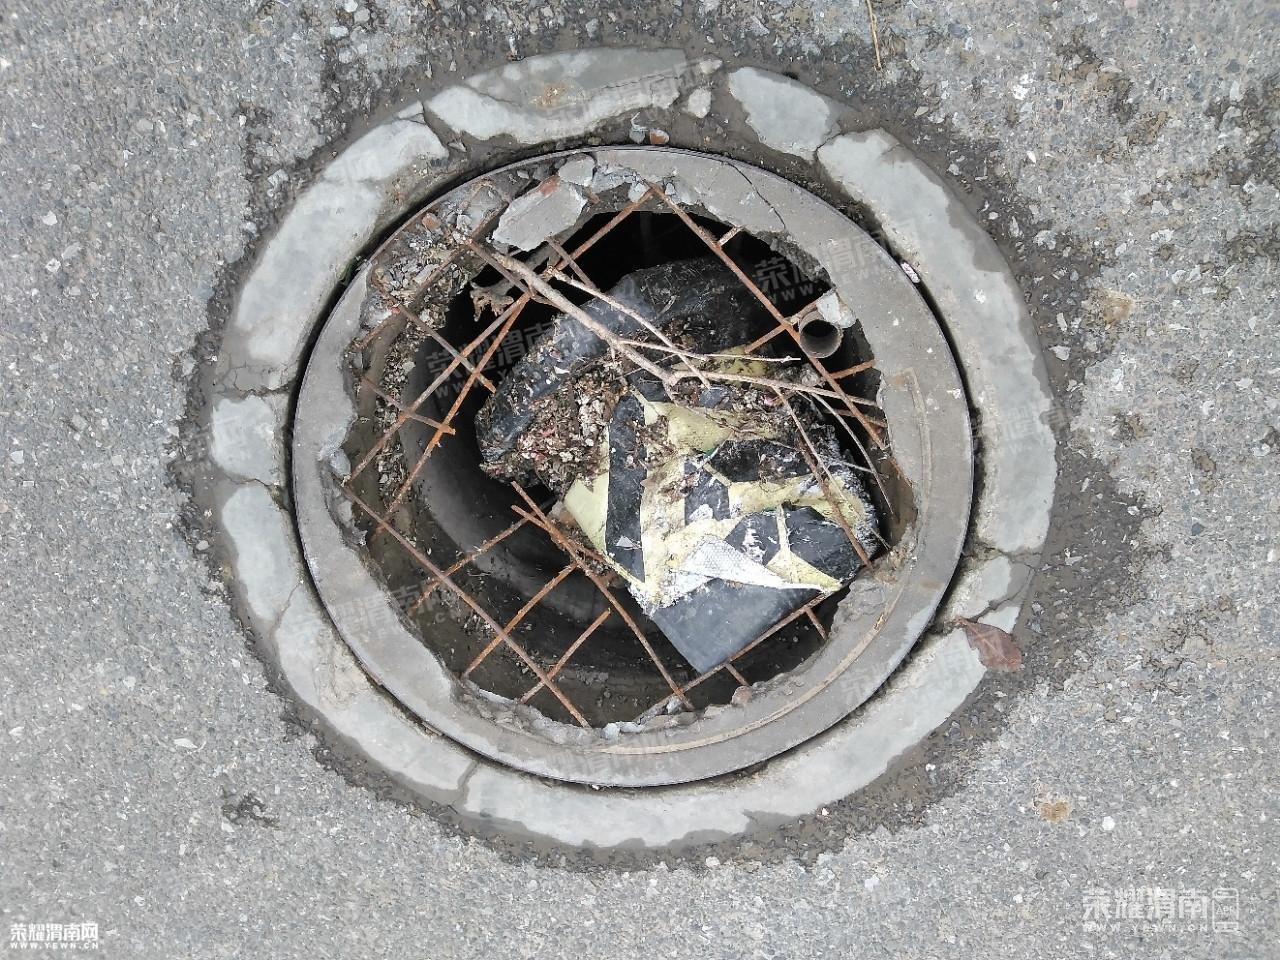wellcover: (247, 112, 1026, 825)
